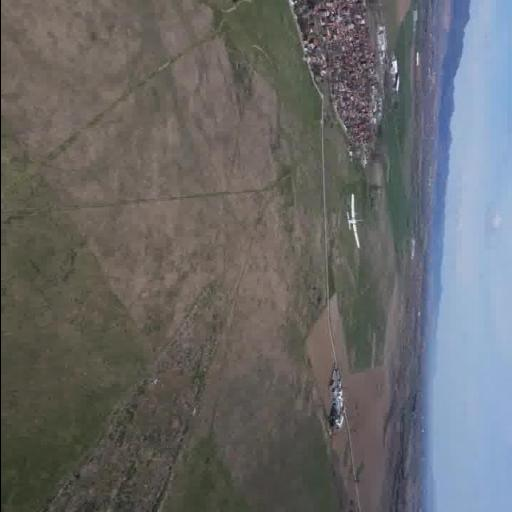uav: (335, 189, 372, 251)
